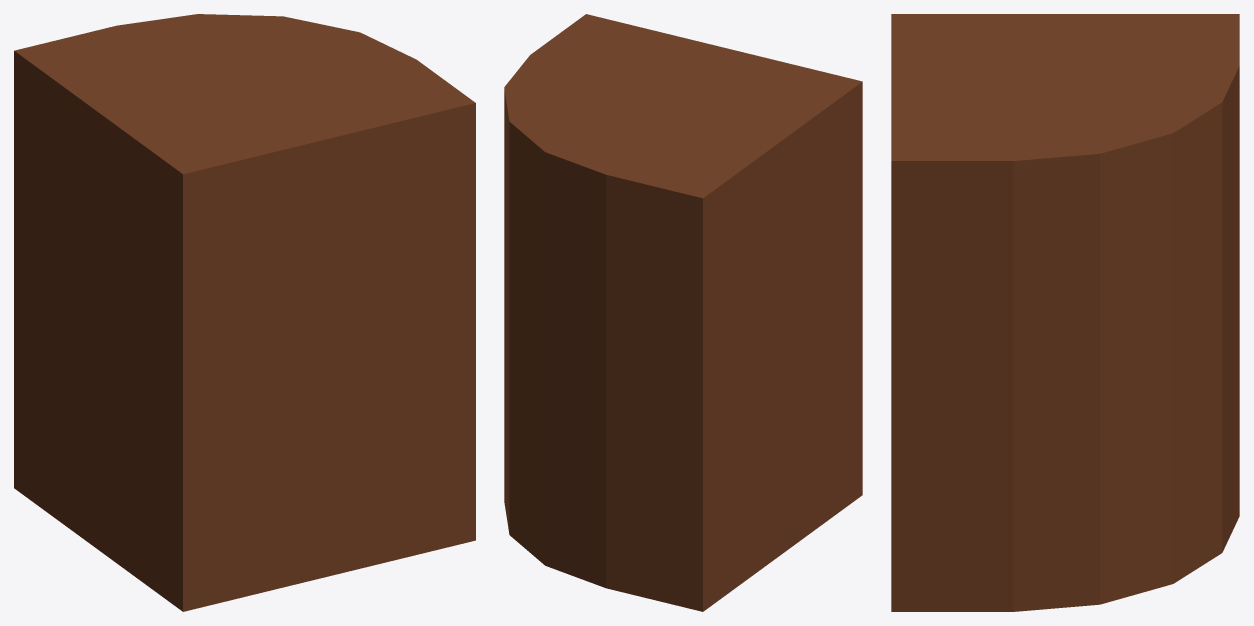
Rendered from tank_edge_side.fbx.
3 views of the same model, side by side, from view 1: azimuth 30°, elevation 25°; view 2: azimuth 150°, elevation 25°; view 3: azimuth 270°, elevation 25° (orthographic). The views are drawn at different scales.
Parts seen in each view (by area): view 1: tank_edge_side; view 2: tank_edge_side; view 3: tank_edge_side.
Boxes of the visible parts, bbox=[...] form: tank_edge_side: bbox=[14, 14, 475, 611]; tank_edge_side: bbox=[504, 14, 862, 611]; tank_edge_side: bbox=[891, 14, 1239, 611].
Bounding box in the file's own units: 70 × 100 × 70.
